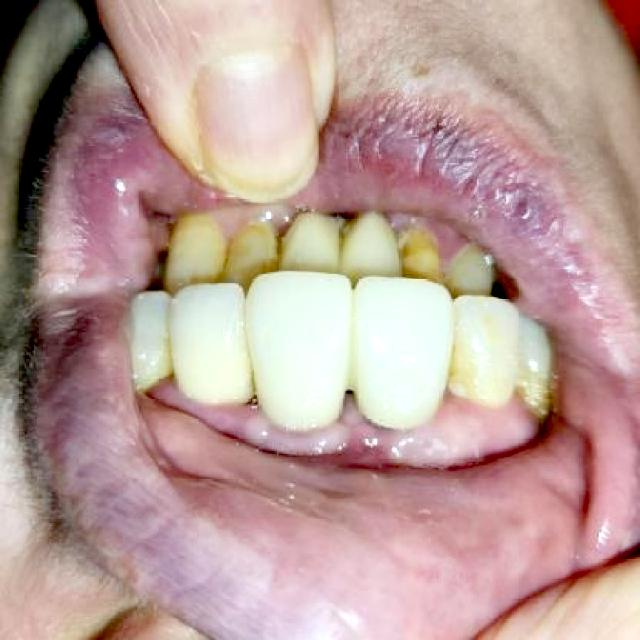Plaque: (388, 212, 469, 267), (215, 206, 302, 240)
